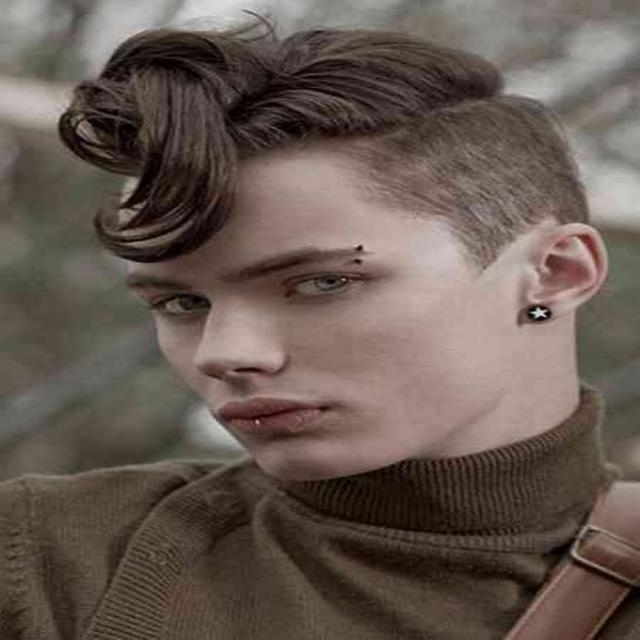right: (120, 256, 459, 468)
